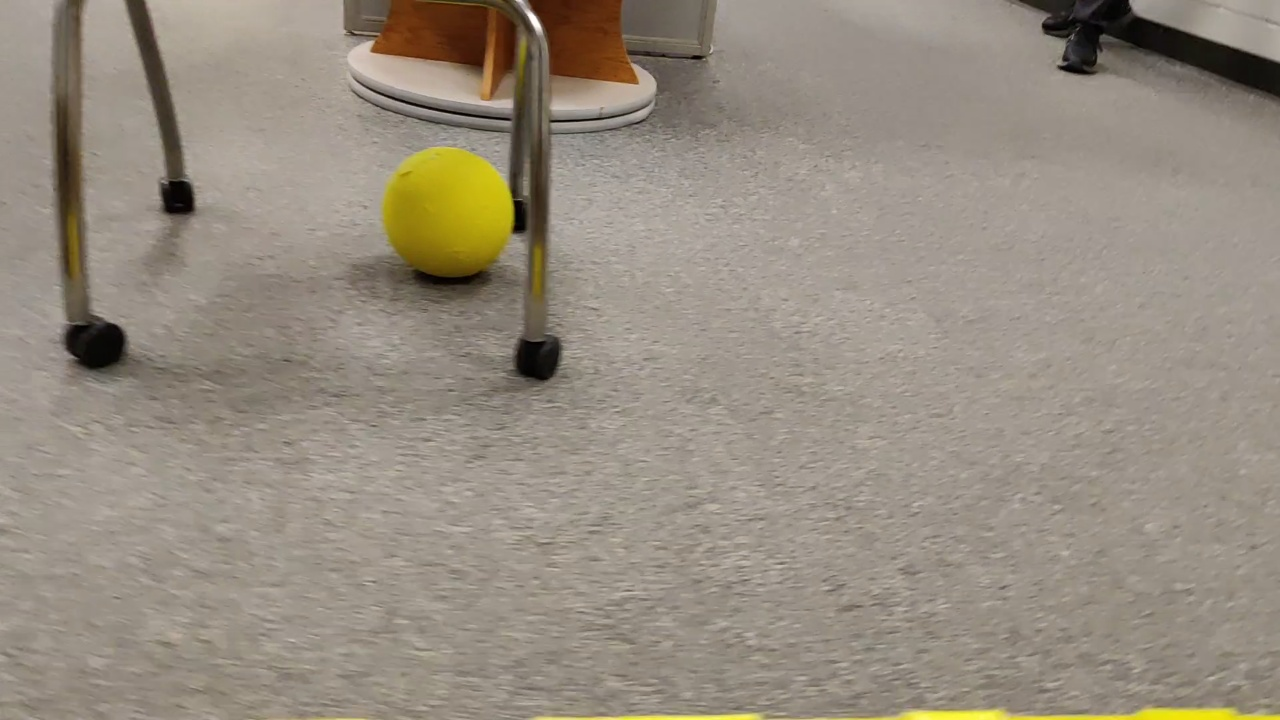Ball: (391, 148, 507, 289)
